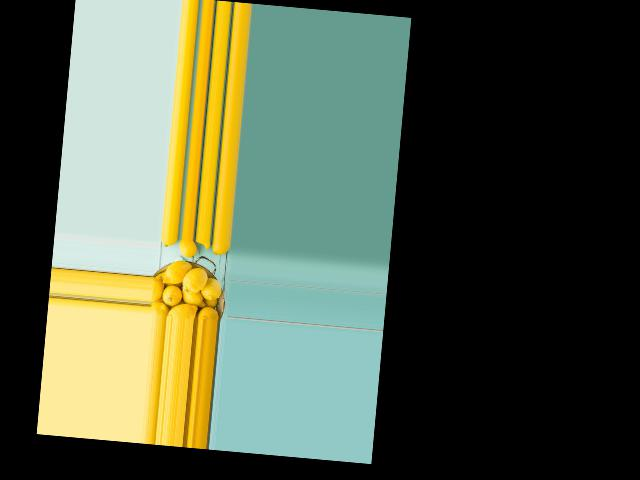lemon: (150, 302, 173, 317)
